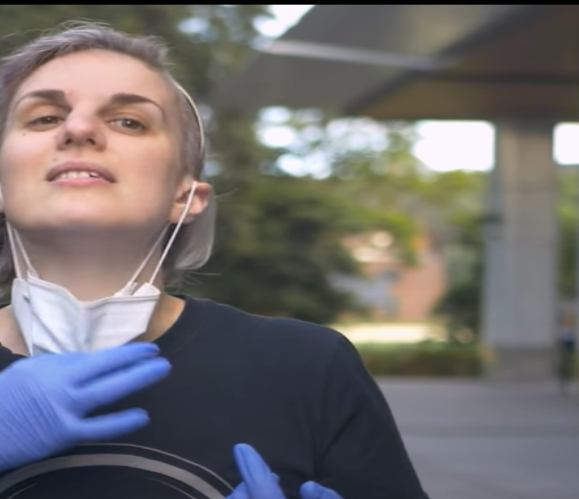mask_weared_incorrect: (1, 19, 210, 348)
